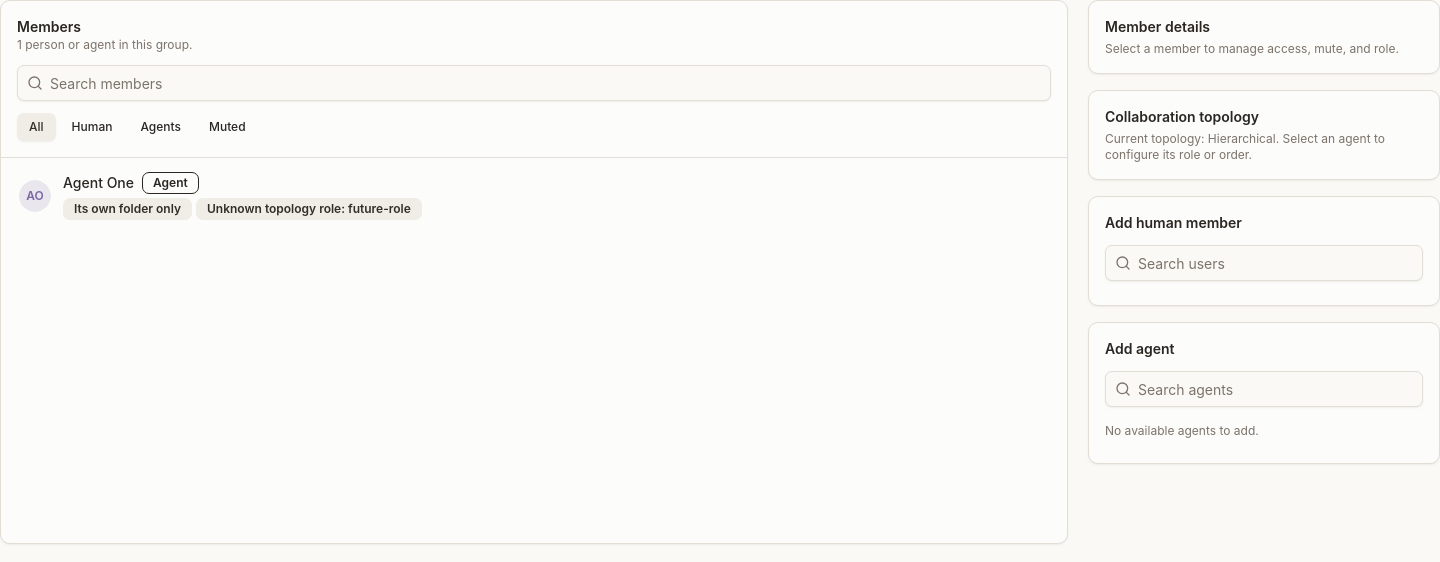
Test: group management i18n › preserves an unknown hierarchical topology role in the row and select
The image size is (1440, 562).
Check: the text "Unknown topology role: future-role" is shown, box [196,198,422,220]
Click the button "Agent One" at {"x": 35, "y": 196}, box [7,162,1061,230]
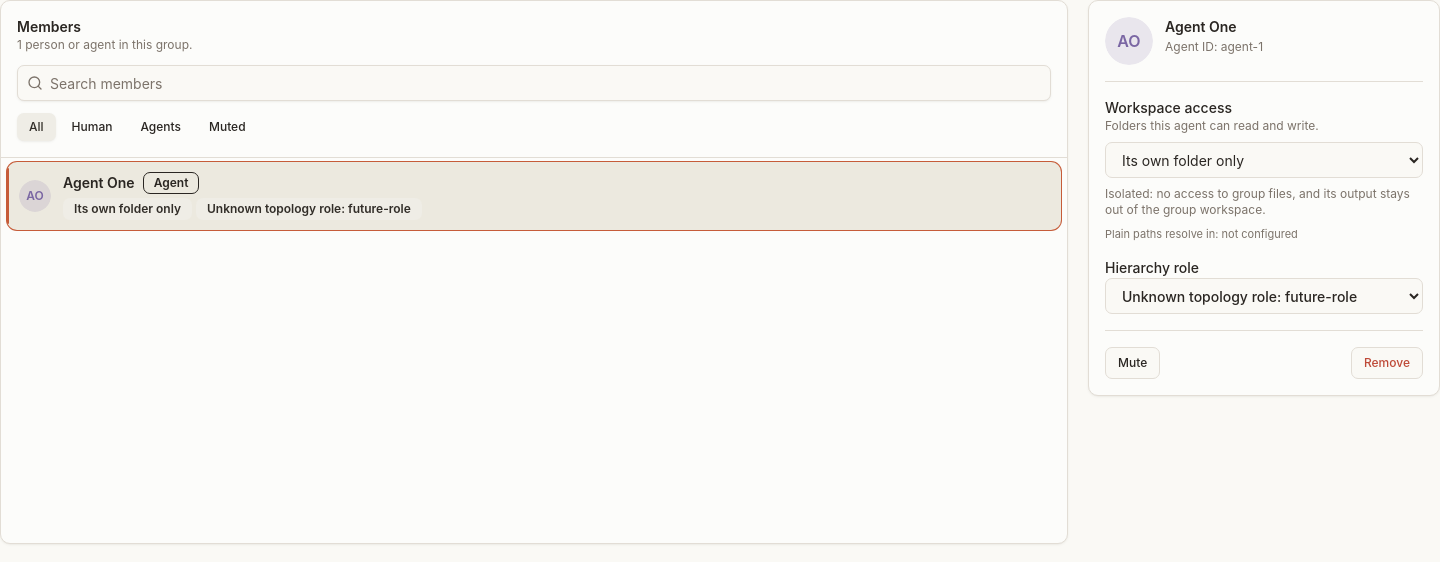
Check: the dropdown labelled "Hierarchy role" shows "Unknown topology role: future-role", box [1105,278,1423,314]
